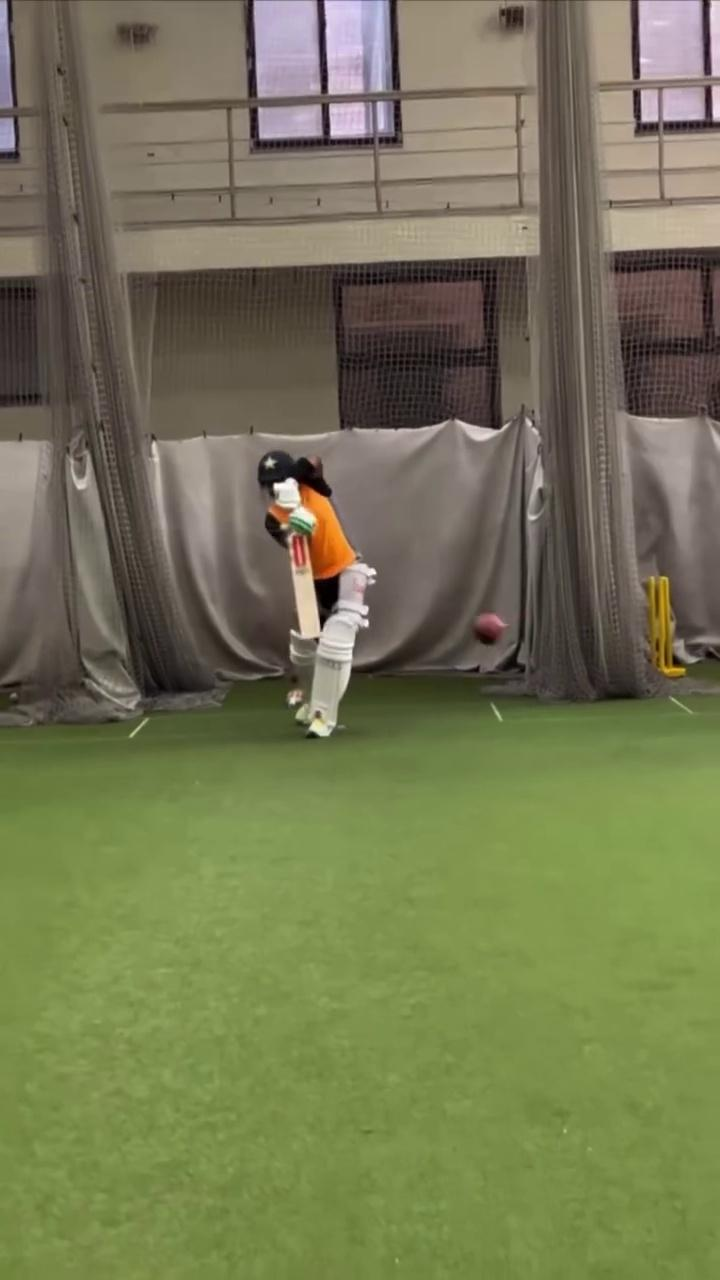bat: (287, 534, 322, 640)
